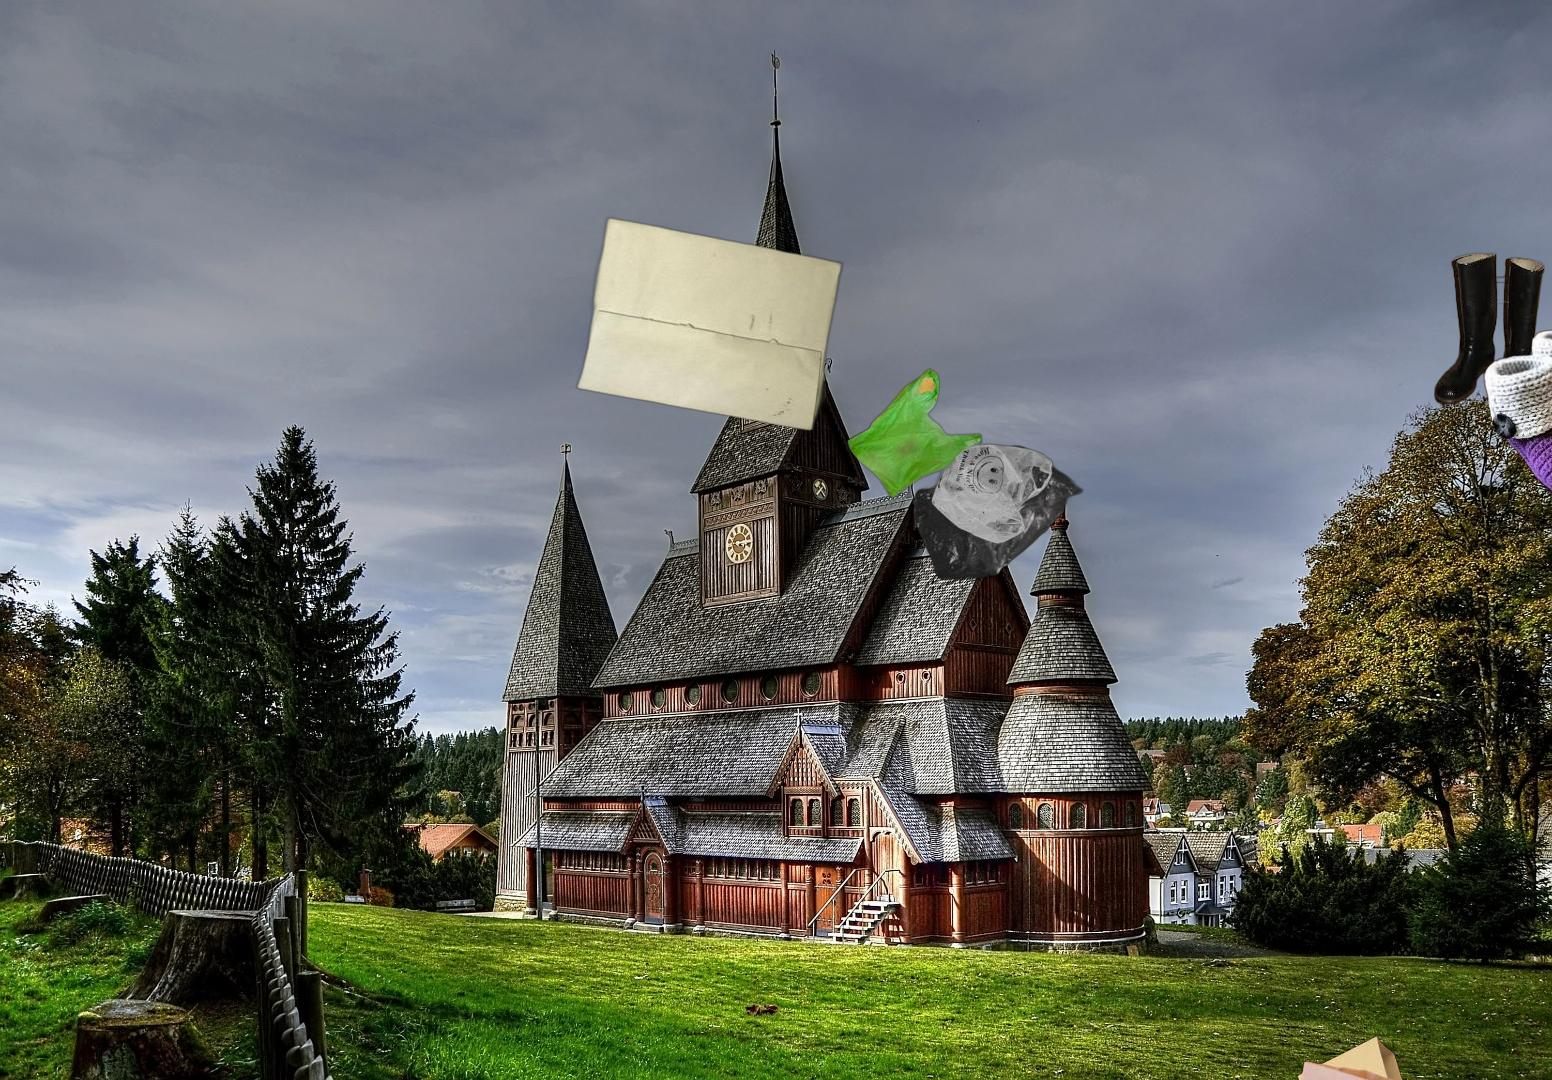paper: (573, 215, 847, 434)
paper-bag: (1272, 1035, 1478, 1080)
penholder: (801, 1076, 1147, 1080)
plastic-bag: (844, 366, 1086, 582)
shoes: (1431, 250, 1550, 428), (1481, 327, 1552, 512)
